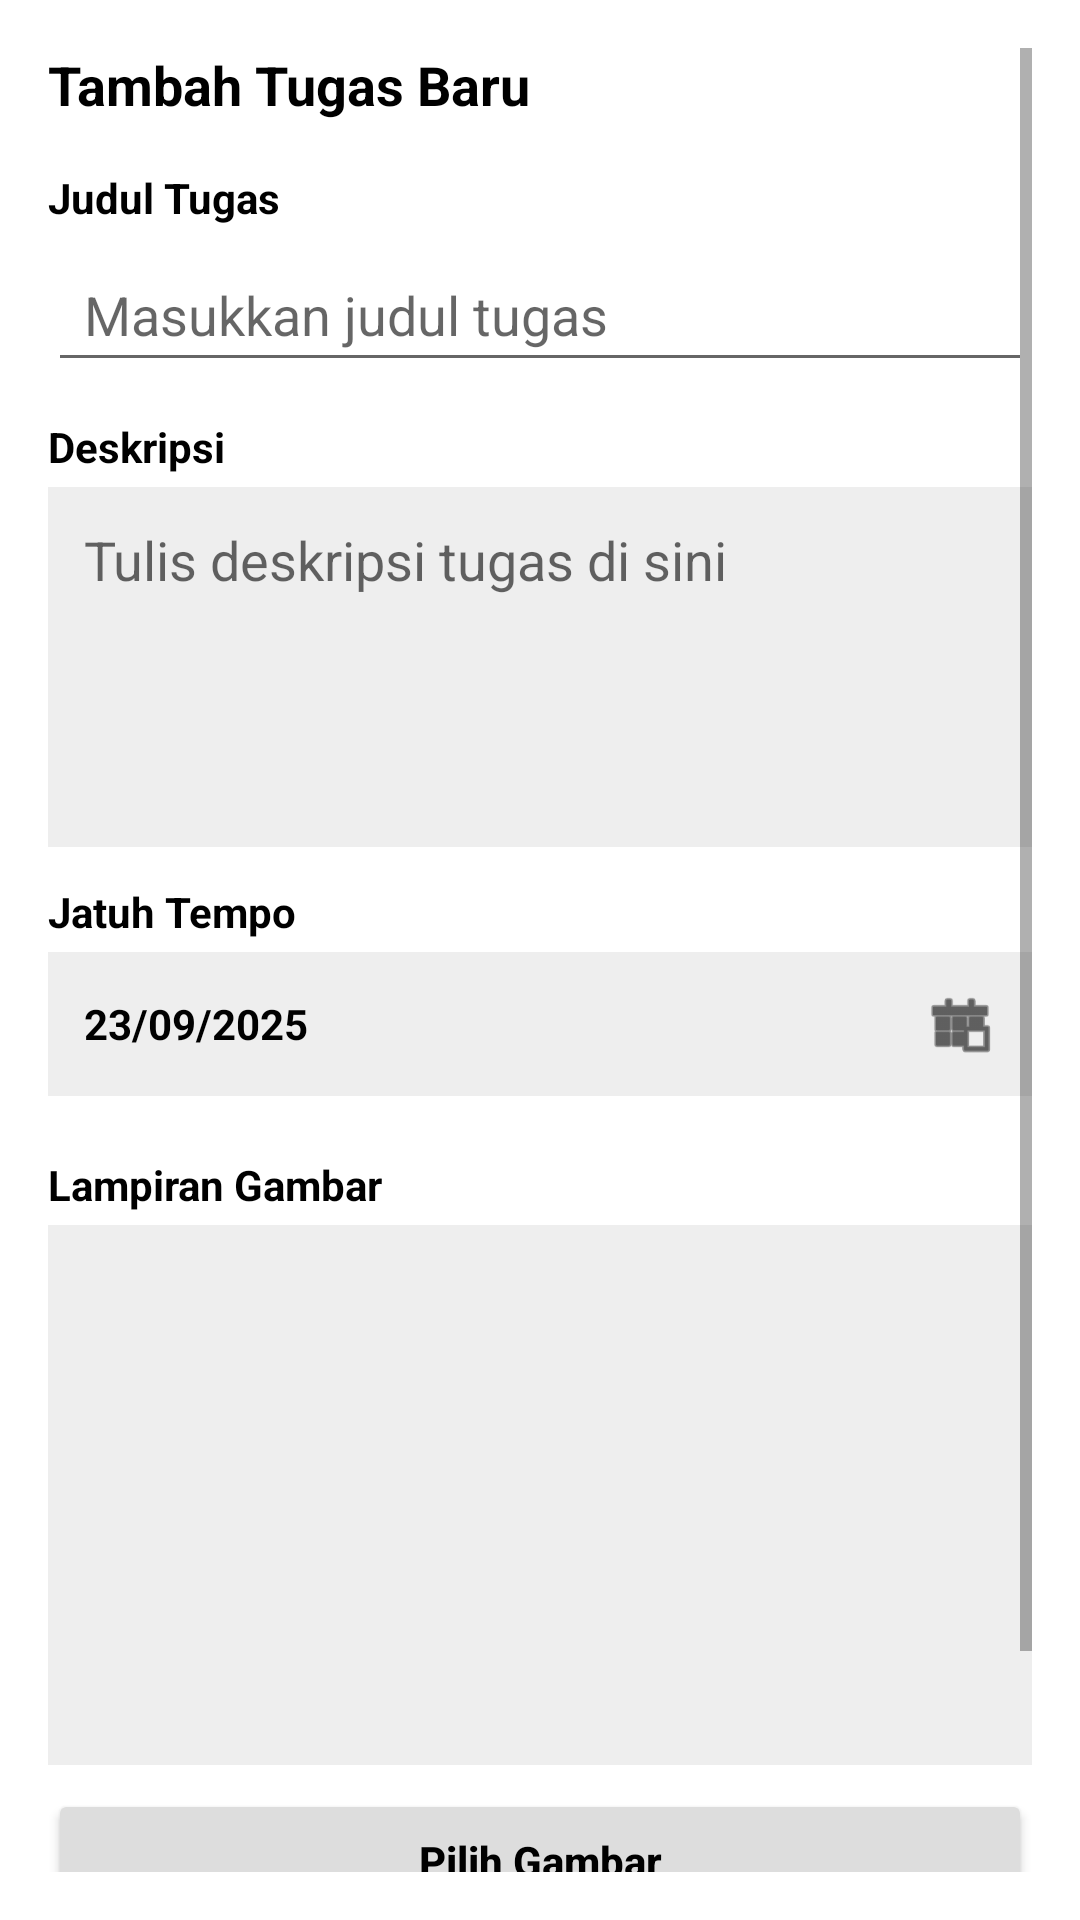

Locate icon controls on the screen. Image size 1080×1920, boxes as {"left": x1, "top": y1, "right": x2, "bottom": y2}.
today: {"left": 931, "top": 998, "right": 990, "bottom": 1053}
